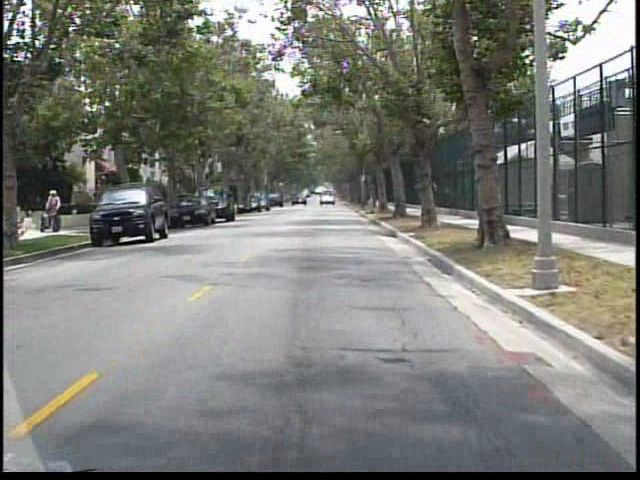person: (46, 188, 67, 234)
